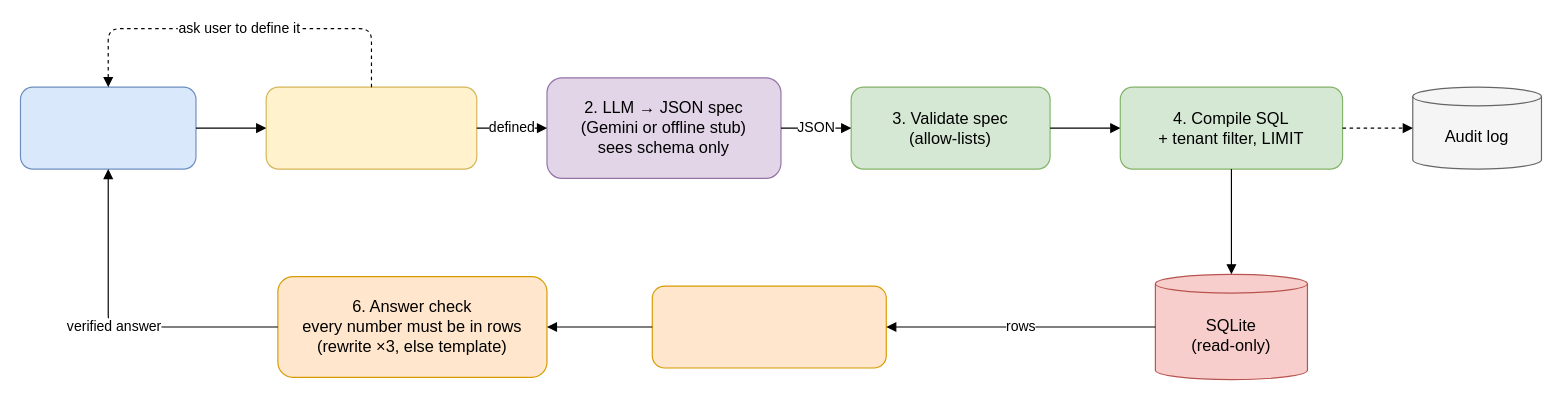
This 1562x400 diagram has some shape labels left out. The shapes that lost their labels are listed below. From the top down, each one's box as (x1, y1, x2, y2) in pixels, then its label:
(19, 86, 196, 169): Streamlit UI (question)
(265, 86, 477, 169): 1. Vague term? ("successful", "sober"…)
(651, 285, 886, 368): 5. Chart + caption (numbers from query)
